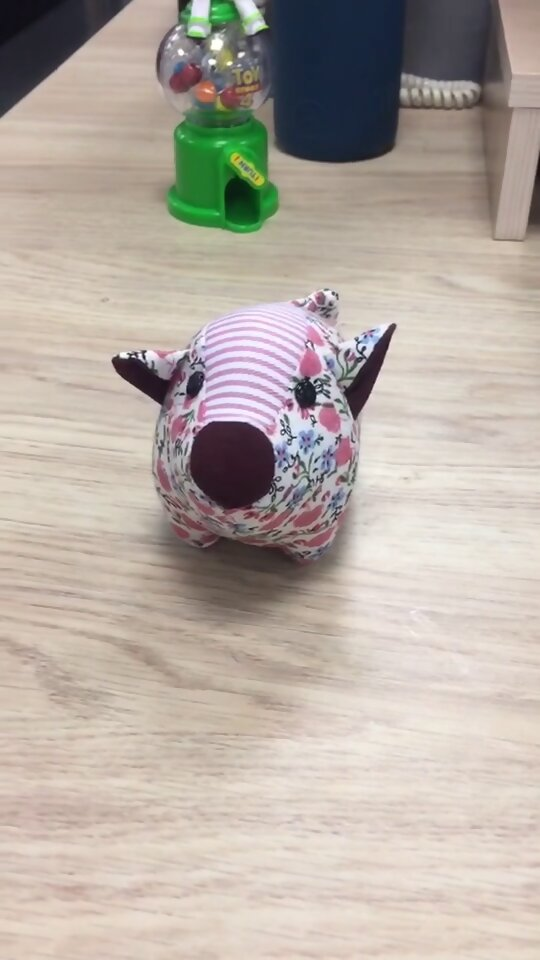pig: (107, 283, 399, 574)
